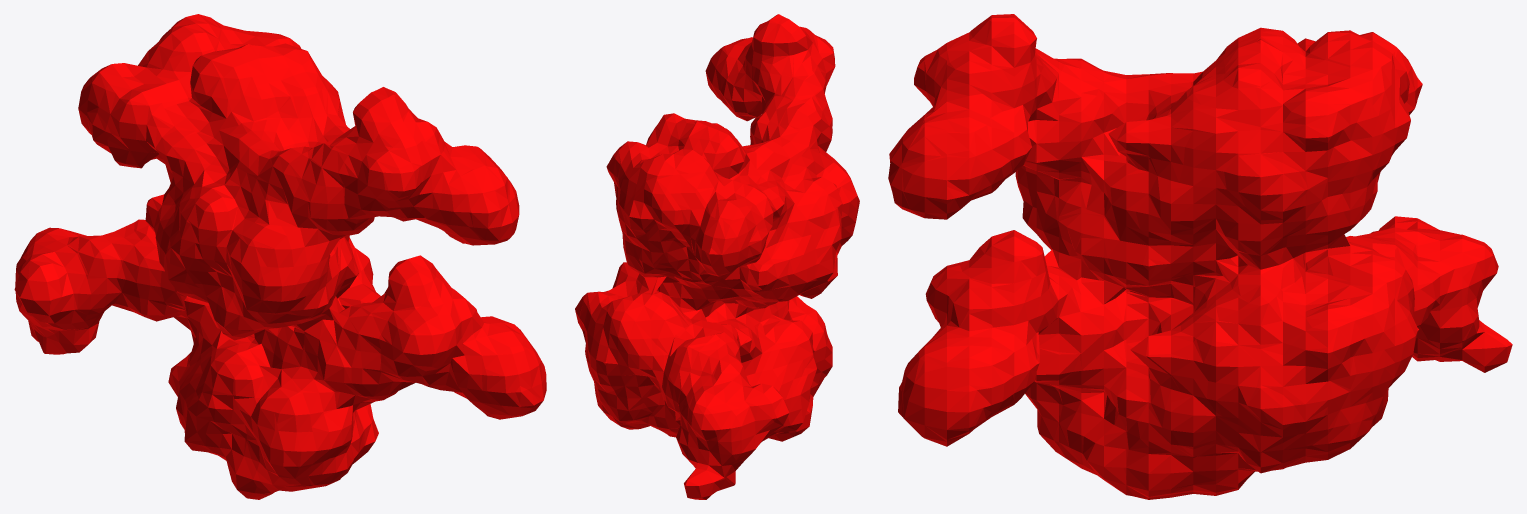
File: efp_coarse.dae
3 views of the same model, side by side, from view 1: azimuth 30°, elevation 25°; view 2: azimuth 150°, elevation 25°; view 3: azimuth 270°, elevation 25° (orthographic). The views are drawn at different scales.
Visible parts, largest first — view 1: efp; view 2: efp; view 3: efp.
Boxes of the visible parts, x1,y1,x2,y2 form: efp: (14, 14, 546, 499); efp: (575, 14, 859, 499); efp: (888, 14, 1512, 499).
Size of the model in its own units: 97.02 by 125 by 145.
